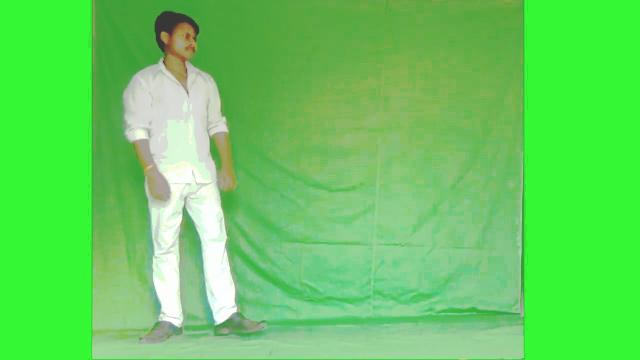berjalan: (124, 9, 264, 345)
